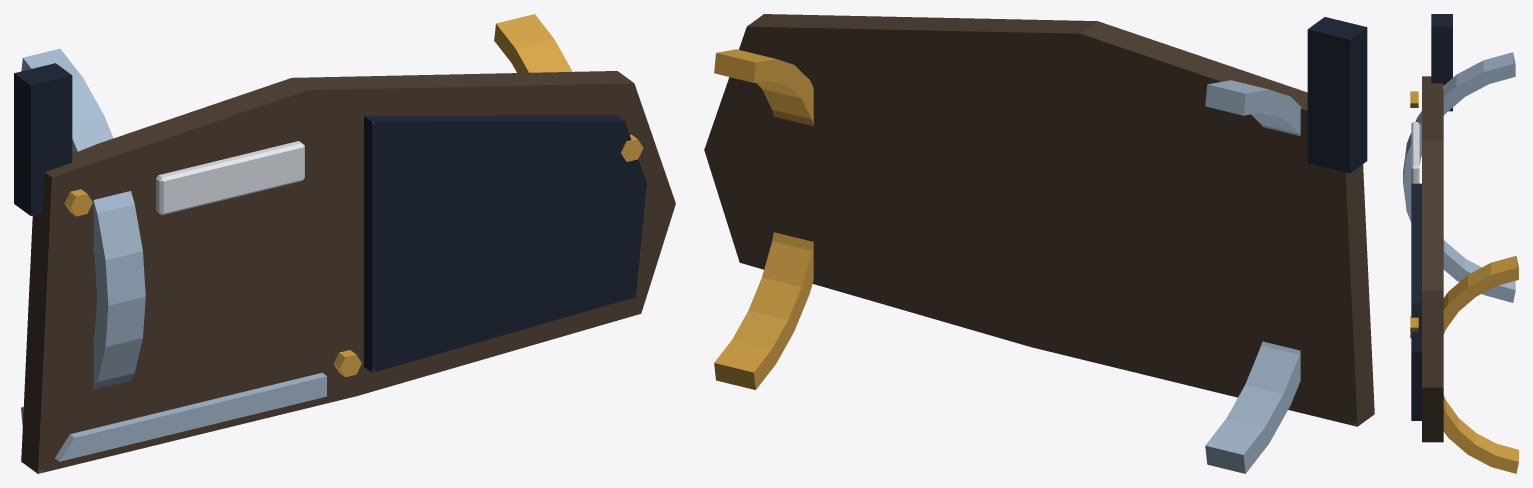
File: holster.glb
3 views of the same model, side by side, from view 1: azimuth 30°, elevation 25°; view 2: azimuth 150°, elevation 25°; view 3: azimuth 270°, elevation 25° (orthographic). The views are drawn at different scales.
Parts seen in each view (by area): view 1: shell; view 2: shell; view 3: shell.
Part boxes in pixels (x1,y1,x2,y2): shell: (14,14,675,473); shell: (704,14,1374,473); shell: (1403,14,1518,473).
Bounding box in the file's own units: 0.46 × 0.3002 × 0.1123.
5 materials, 5 textured.
